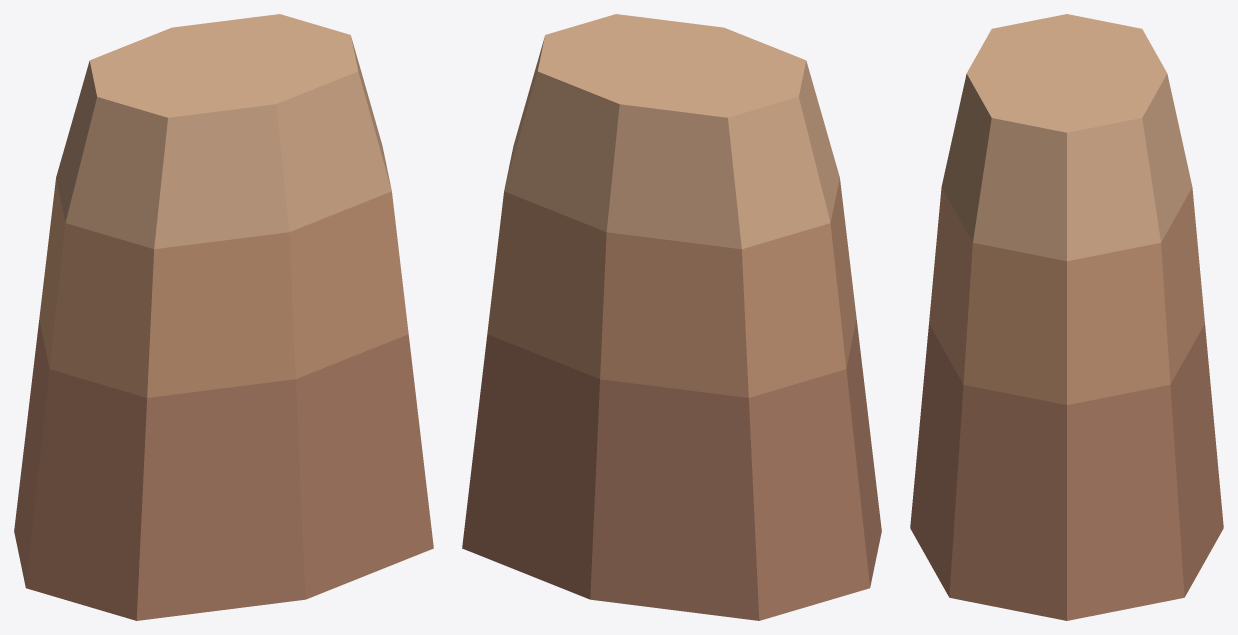
File: sandstone-1.glb
The picture shows the model from 3 angles, left to right: view 1: azimuth 30°, elevation 25°; view 2: azimuth 150°, elevation 25°; view 3: azimuth 270°, elevation 25°; orthographic projection. The views are drawn at different scales.
Bounding box in the file's own units: 3.5 × 4 × 2.5.
